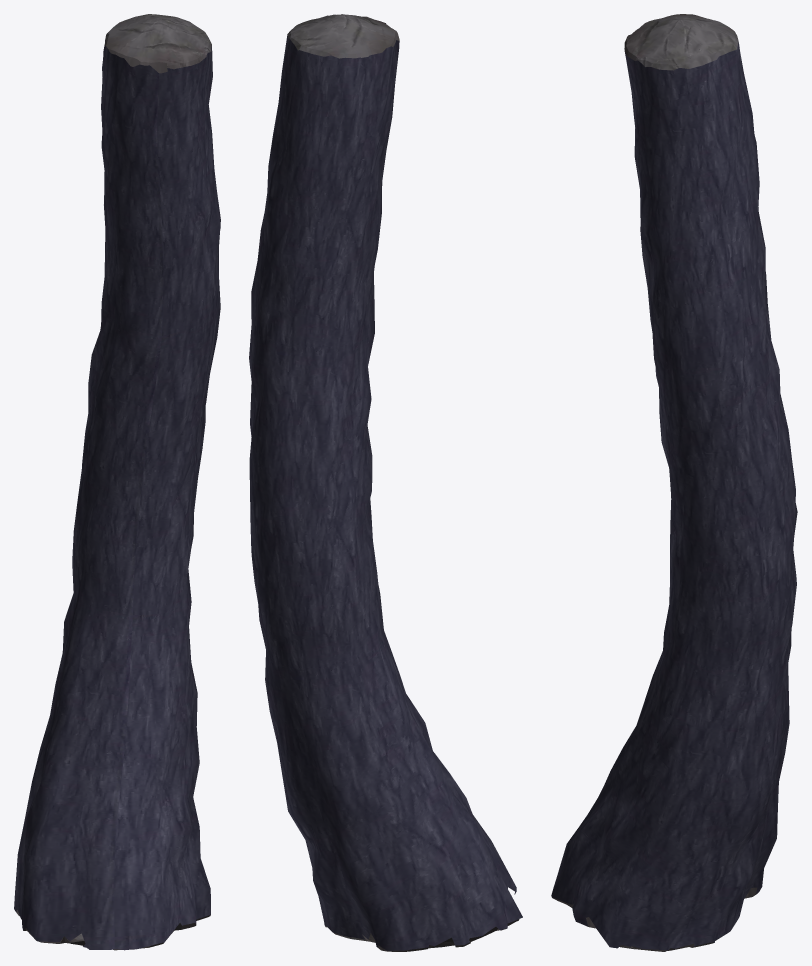
3 views of the same model, side by side, from view 1: azimuth 30°, elevation 25°; view 2: azimuth 150°, elevation 25°; view 3: azimuth 270°, elevation 25° (orthographic). The views are drawn at different scales.
Visible parts, largest first — view 1: SM_Willow_02_tree_quarters_bottom_LOD0; view 2: SM_Willow_02_tree_quarters_bottom_LOD0; view 3: SM_Willow_02_tree_quarters_bottom_LOD0.
Boxes of the visible parts, x1,y1,x2,y2 form: SM_Willow_02_tree_quarters_bottom_LOD0: (14,14,220,950); SM_Willow_02_tree_quarters_bottom_LOD0: (249,14,522,951); SM_Willow_02_tree_quarters_bottom_LOD0: (551,14,797,951).
Size of the model in its own units: 2 by 7.82 by 1.87.
Materials: 1 (1 with a texture image).
